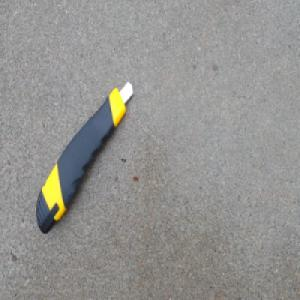Cutter: (35, 80, 133, 237)
